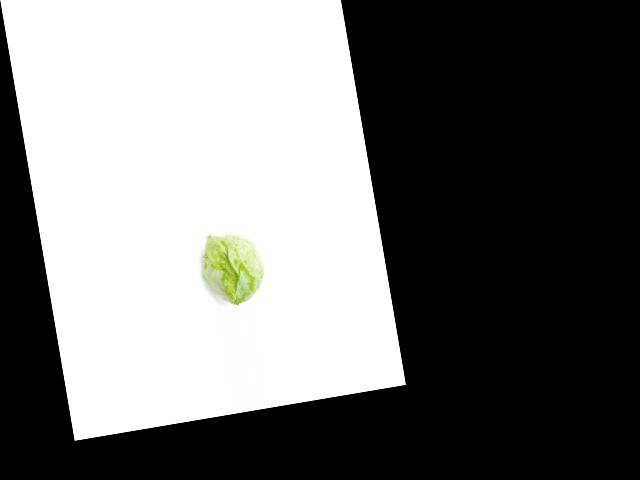lettuce: (192, 227, 273, 309)
